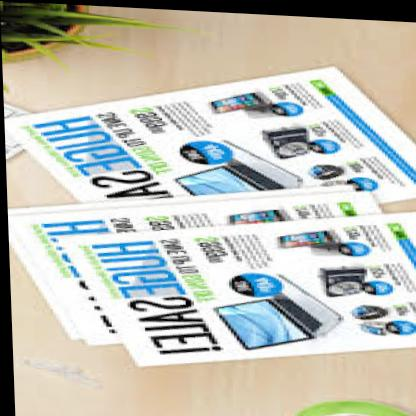Paper: (10, 50, 416, 384)
